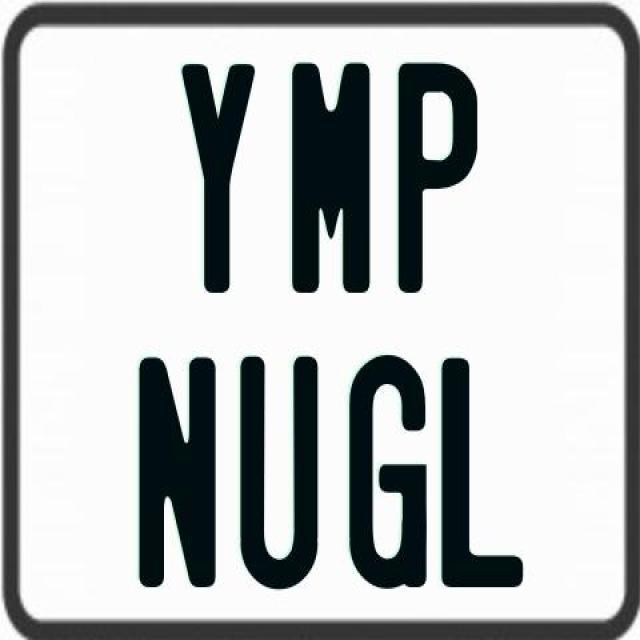G: (348, 350, 426, 590)
L: (441, 357, 523, 587)
M: (290, 58, 370, 292)
N: (134, 357, 213, 592)
P: (394, 59, 476, 296)
U: (240, 352, 319, 592)
Y: (178, 59, 258, 291)
